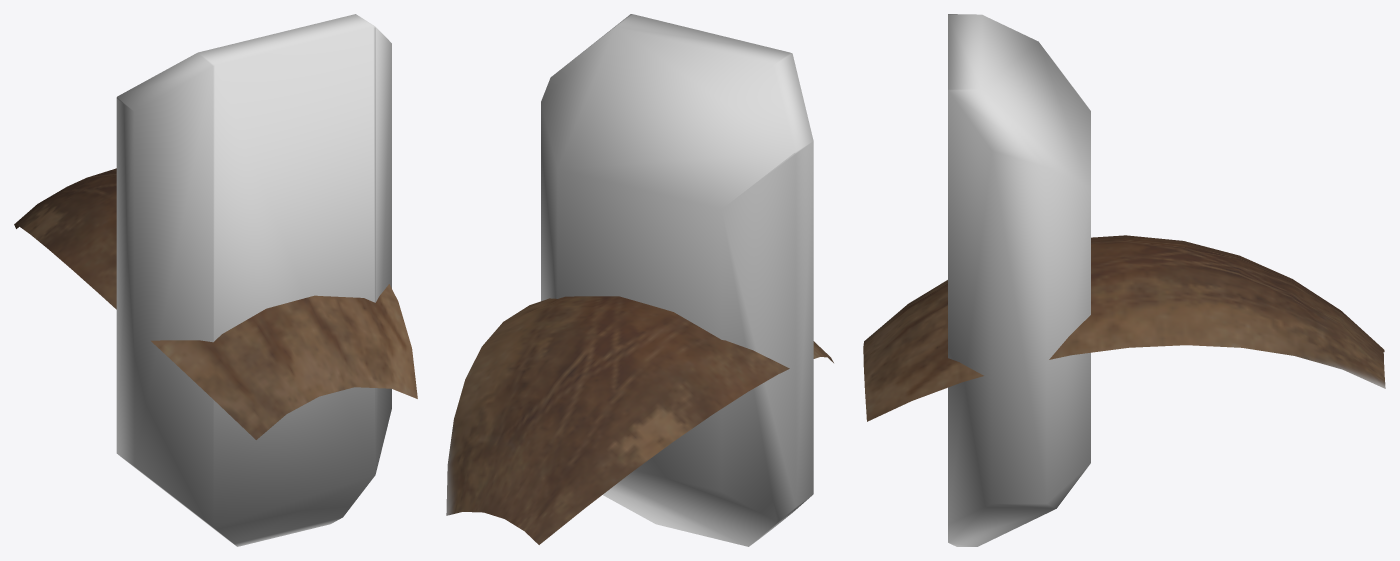
File: SM_Coir_Bent__Plane_009.fbx
The picture shows the model from 3 angles, left to right: view 1: azimuth 30°, elevation 25°; view 2: azimuth 150°, elevation 25°; view 3: azimuth 270°, elevation 25°; orthographic projection. The views are drawn at different scales.
Visible parts, largest first — view 1: SM_Coir_Bent__Plane_009_ConvexHulls, SM_Coir_Bent__Plane_009; view 2: SM_Coir_Bent__Plane_009_ConvexHulls, SM_Coir_Bent__Plane_009; view 3: SM_Coir_Bent__Plane_009_ConvexHulls, SM_Coir_Bent__Plane_009.
Part boxes in pixels (box(x1,y1,x2,y2)): SM_Coir_Bent__Plane_009_ConvexHulls: box(116, 14, 391, 546); SM_Coir_Bent__Plane_009: box(14, 168, 417, 439); SM_Coir_Bent__Plane_009_ConvexHulls: box(541, 14, 813, 546); SM_Coir_Bent__Plane_009: box(446, 296, 833, 544); SM_Coir_Bent__Plane_009_ConvexHulls: box(948, 14, 1090, 546); SM_Coir_Bent__Plane_009: box(863, 235, 1385, 421).
Bounding box in the file's own units: 0.2018 × 0.3769 × 0.375.
